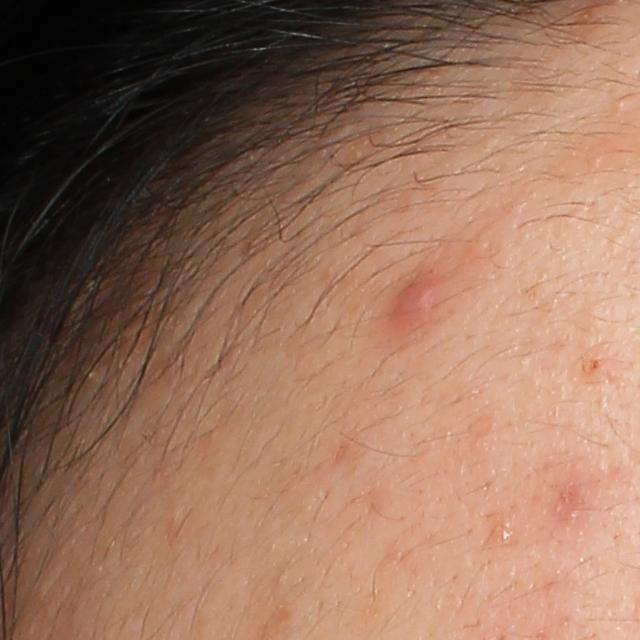comedo: (490, 523, 514, 546)
papule: (388, 280, 438, 320)
